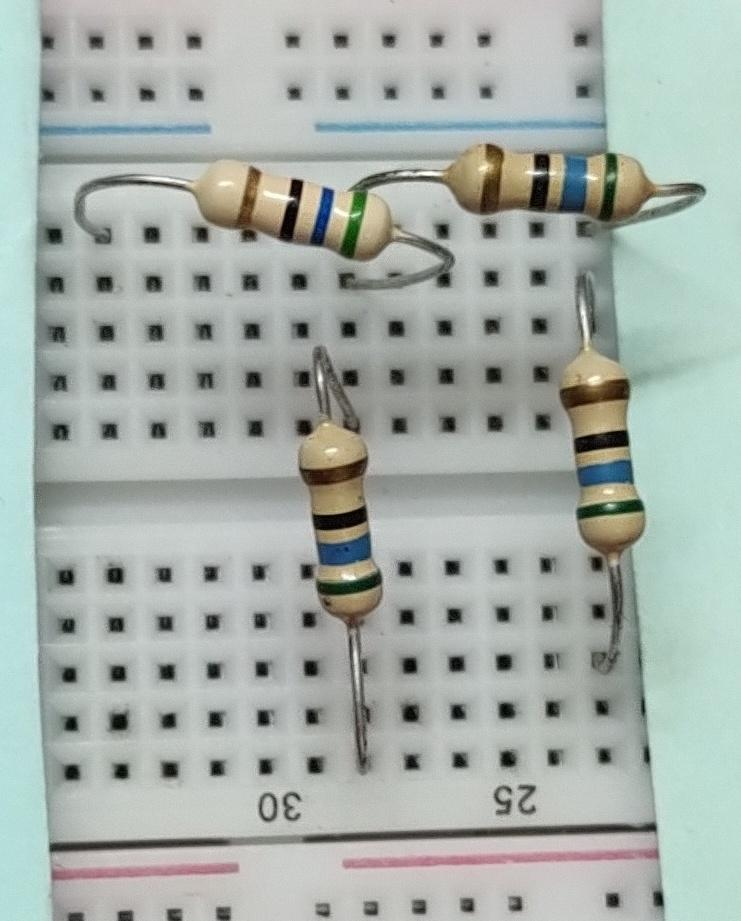resistor: (438, 120, 668, 255), (178, 145, 398, 280), (542, 322, 662, 565), (282, 413, 410, 633)
